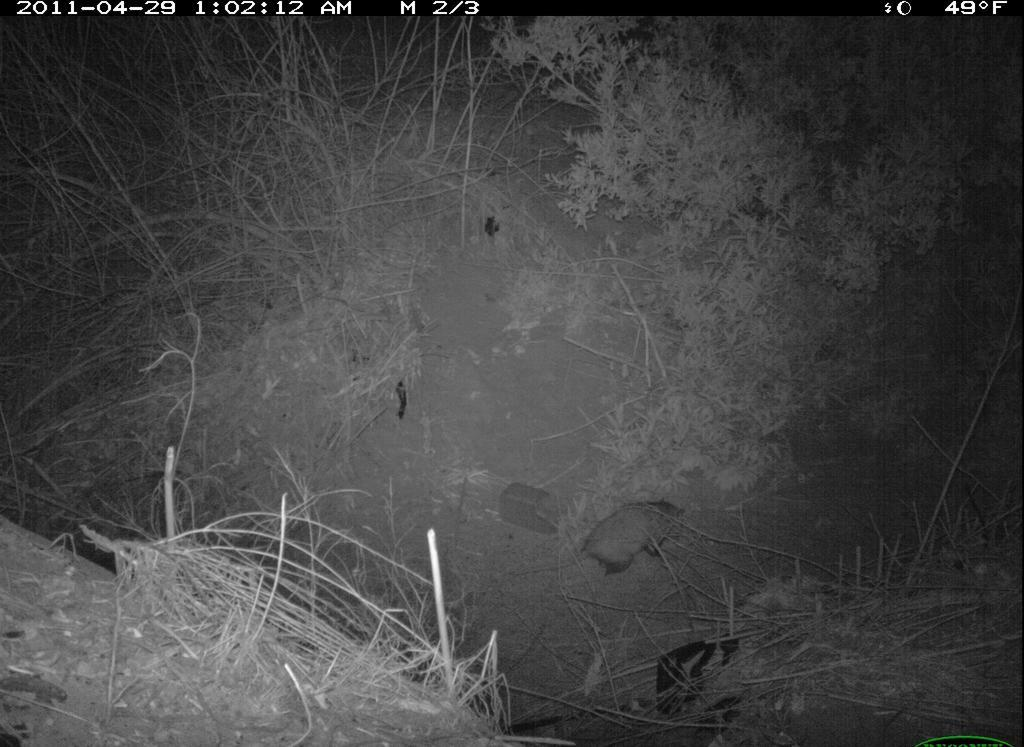opossum: (520, 489, 701, 584)
